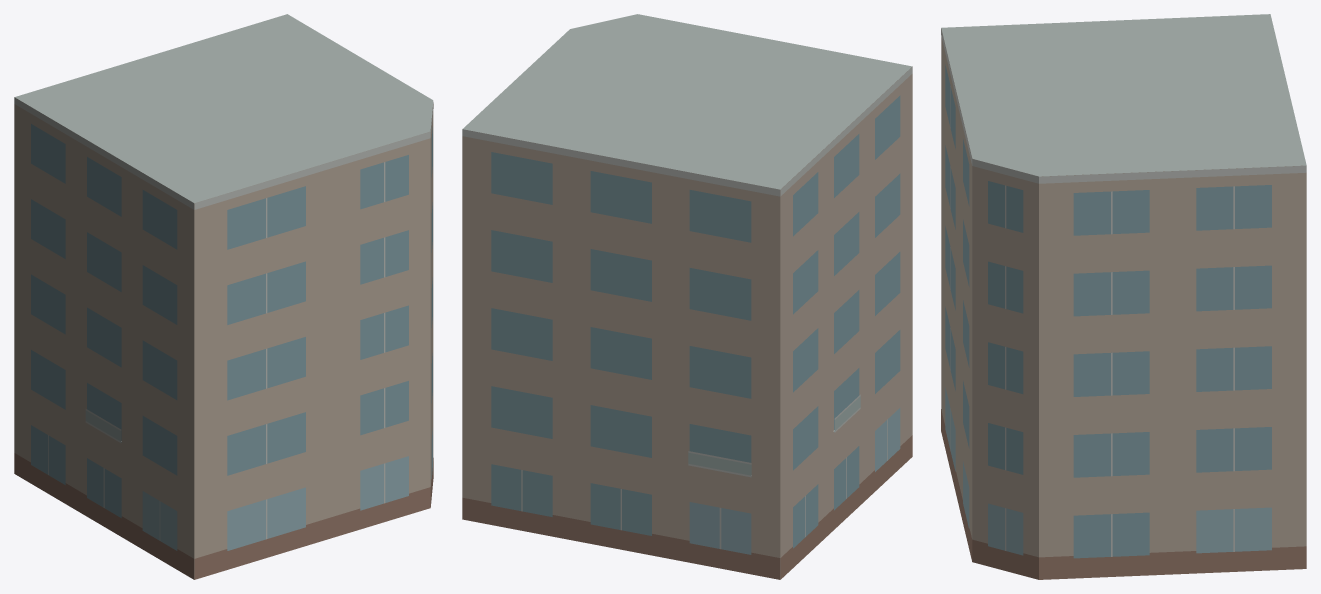
File: survey-upis-32563217.glb
The picture shows the model from 3 angles, left to right: view 1: azimuth 30°, elevation 25°; view 2: azimuth 150°, elevation 25°; view 3: azimuth 270°, elevation 25°; orthographic projection. The views are drawn at different scales.
Parts seen in each view (by area): view 1: survey-upis-32563217.tmp; view 2: survey-upis-32563217.tmp; view 3: survey-upis-32563217.tmp.
Part boxes in pixels (bbox=[...]): survey-upis-32563217.tmp: bbox=[14, 14, 433, 579]; survey-upis-32563217.tmp: bbox=[462, 14, 912, 579]; survey-upis-32563217.tmp: bbox=[941, 14, 1306, 579].
Bounding box in the file's own units: 11.76 × 13.6 × 11.18.
